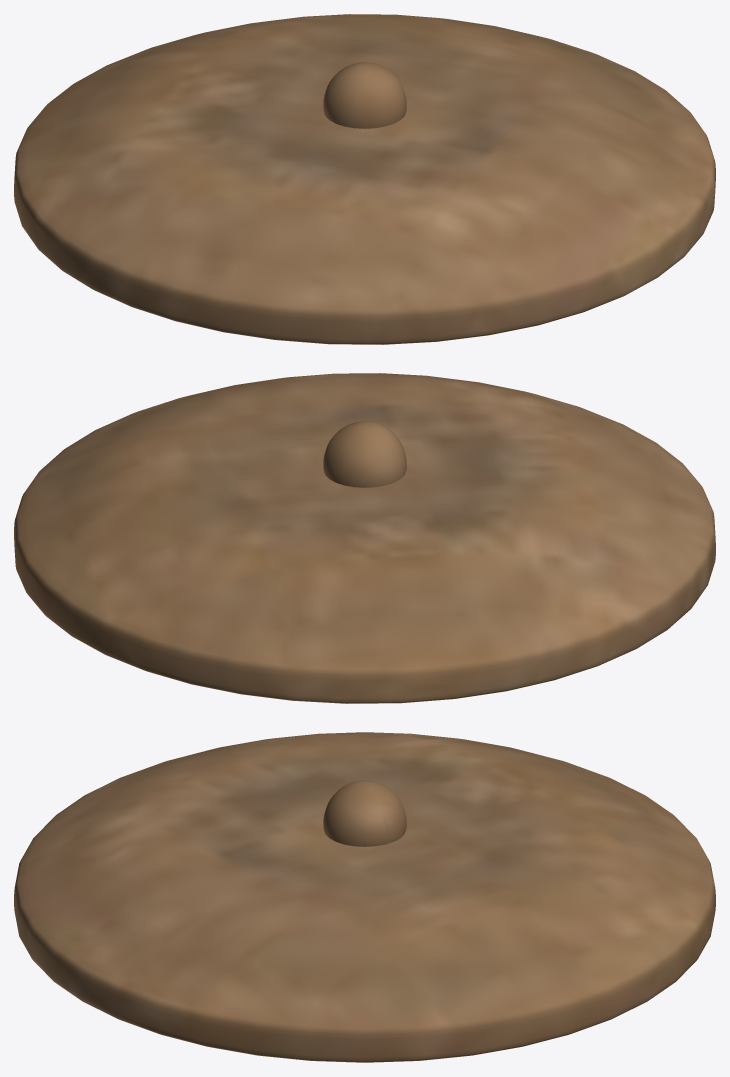
The model's file is SM_Pot_C_Lid.glb.
3 views of the same model, one above another, from view 1: azimuth 30°, elevation 25°; view 2: azimuth 150°, elevation 25°; view 3: azimuth 270°, elevation 25° (orthographic).
Visible parts, largest first — view 1: SM_Pot_C_Lid; view 2: SM_Pot_C_Lid; view 3: SM_Pot_C_Lid.
Part boxes in pixels (box(x1,y1,x2,y2)): SM_Pot_C_Lid: box(14, 14, 715, 344); SM_Pot_C_Lid: box(14, 373, 715, 703); SM_Pot_C_Lid: box(14, 732, 715, 1062).
Bounding box in the file's own units: 0.2192 × 0.0458 × 0.2192.
Materials: 1 (1 with a texture image).
